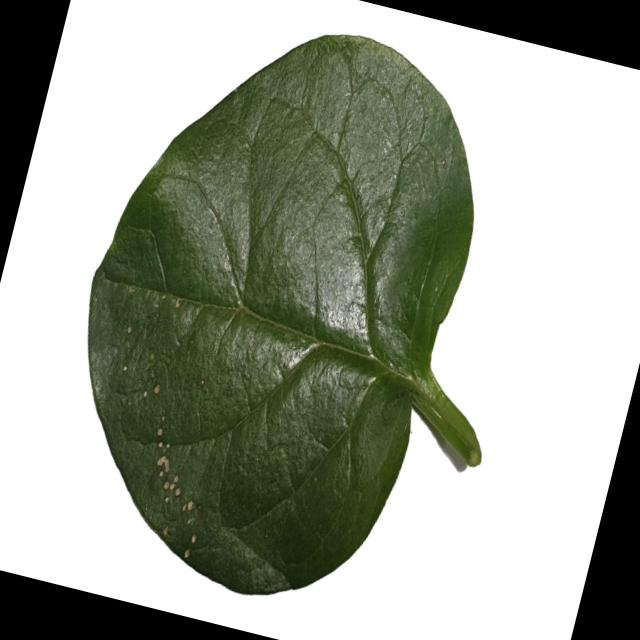Medicinal-Basale: (26, 0, 576, 640)
